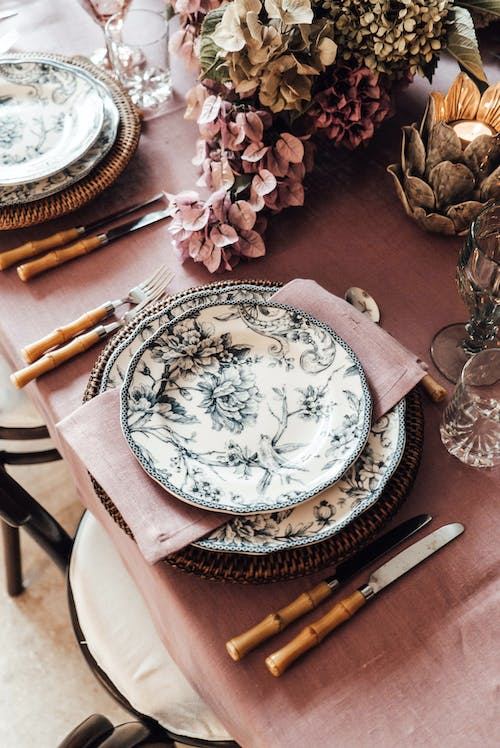knife: (265, 518, 466, 678), (223, 511, 434, 662), (0, 191, 166, 273), (12, 207, 181, 282)
